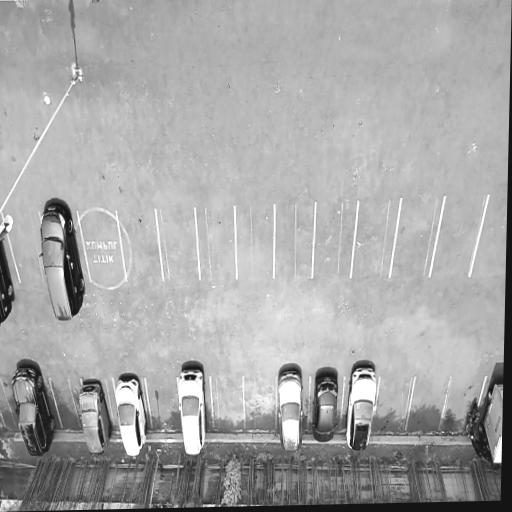Space Available: (144, 376, 182, 433), (212, 374, 246, 430), (51, 378, 79, 429), (0, 381, 19, 434)
